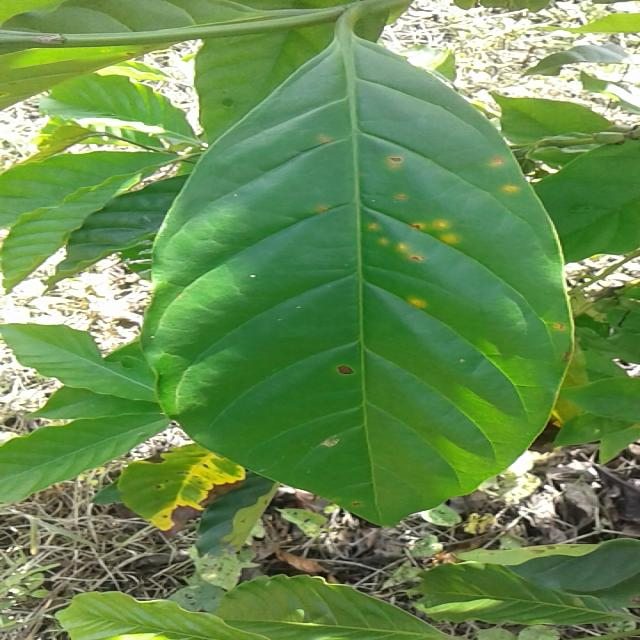Enfermedad-Roya: (134, 20, 576, 529)
